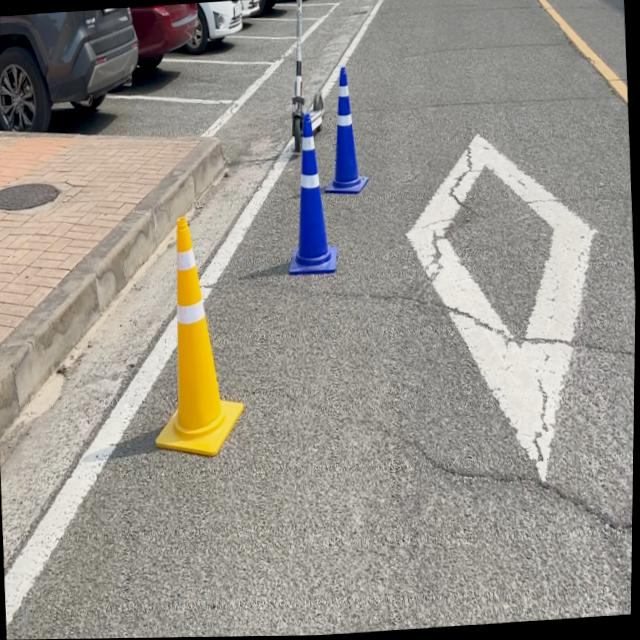b_rub: (290, 112, 338, 274), (327, 66, 370, 194)
y_rub: (157, 216, 245, 456)
